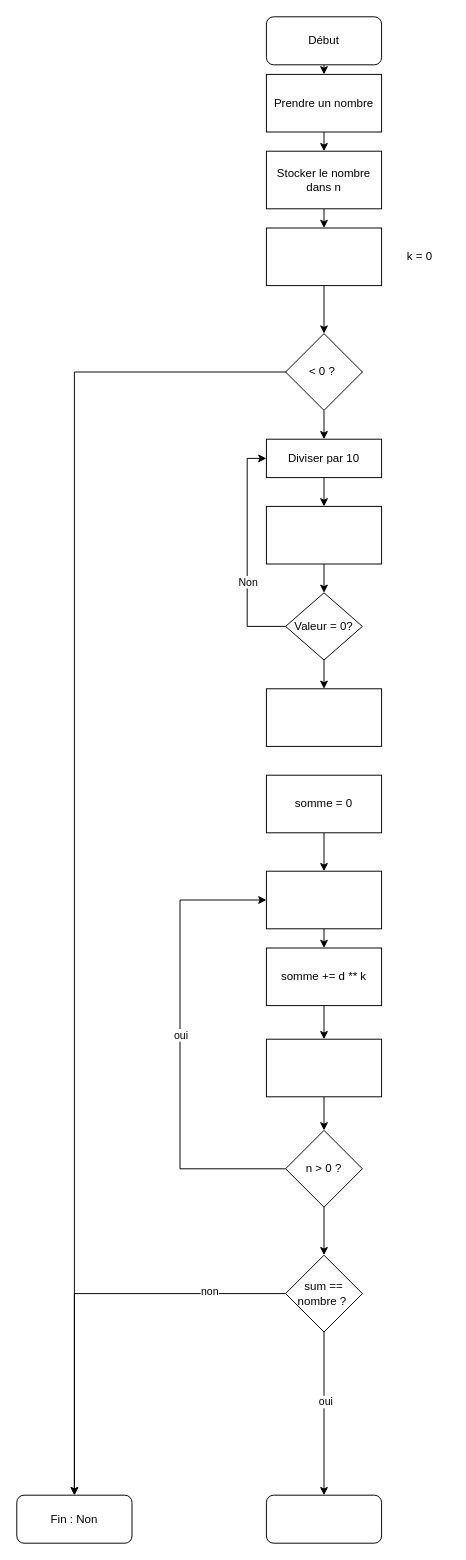
Image size: 466x1560. Some labels were removed from this diagram. Each missing label, with the box of its shape:
compteur = nombre de chiffres n = nombre: (265, 688, 382, 746)
d = n % 10: (265, 870, 382, 929)
Fin : Oui: (265, 1494, 382, 1543)
Incrémenter le compteur: (265, 505, 382, 564)
Initialiser le compteur à 0: (265, 227, 382, 286)
n = n / 10: (265, 1038, 382, 1097)
